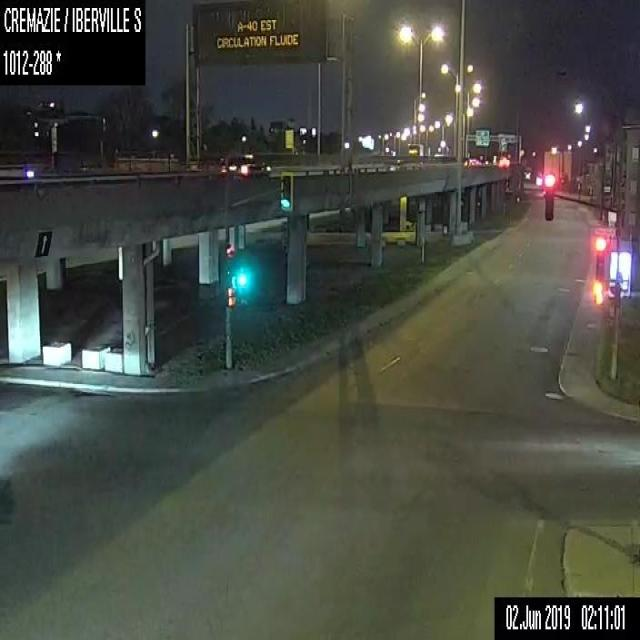vehicle: (218, 149, 272, 177), (407, 142, 424, 160), (464, 157, 482, 167), (498, 155, 509, 167)
